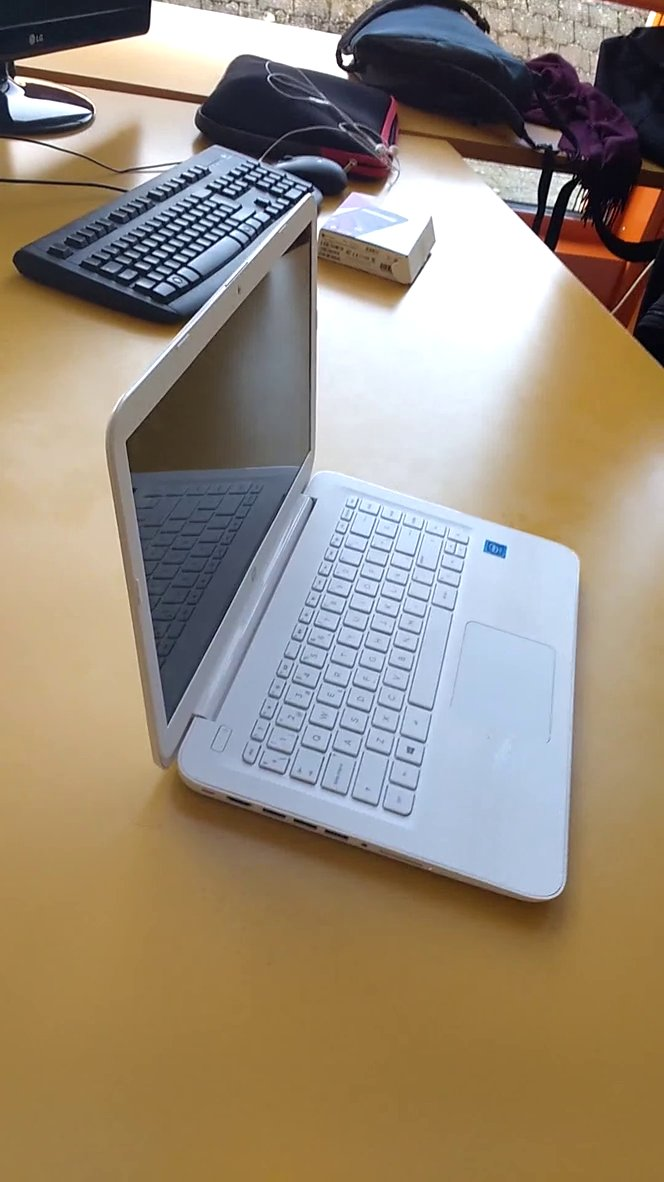bag: (332, 1, 553, 145)
laptop: (93, 178, 616, 931)
